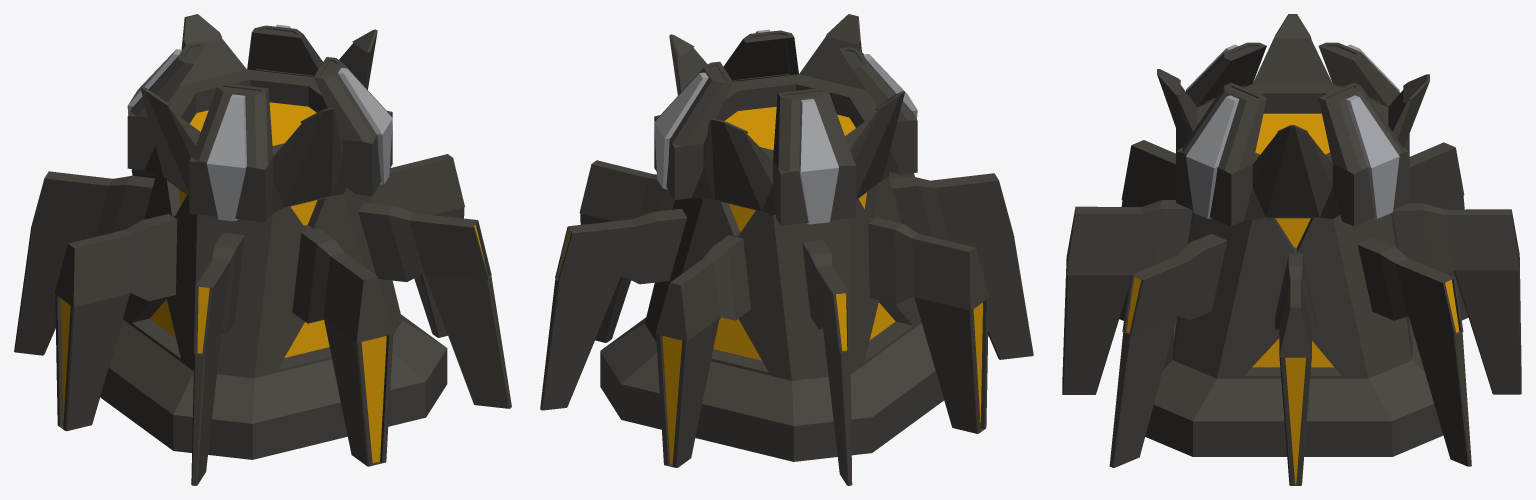
The model's file is Drive.fbx.
3 views of the same model, side by side, from view 1: azimuth 30°, elevation 25°; view 2: azimuth 150°, elevation 25°; view 3: azimuth 270°, elevation 25° (orthographic).
Visible parts, largest first — view 1: Cube; view 2: Cube; view 3: Cube.
Boxes of the visible parts, x1,y1,x2,y2 form: Cube: (14,14,511,485); Cube: (540,14,1033,485); Cube: (1062,14,1521,485).
Size of the model in its own units: 381 by 296 by 384.
